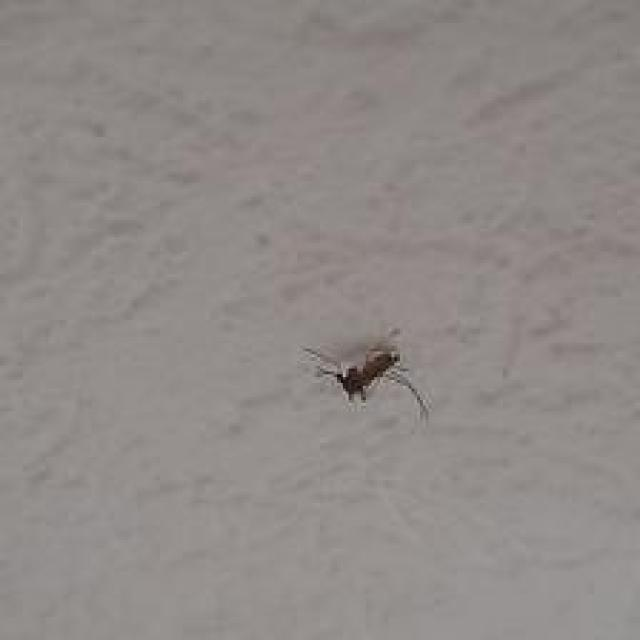Culex: (301, 327, 430, 424)
